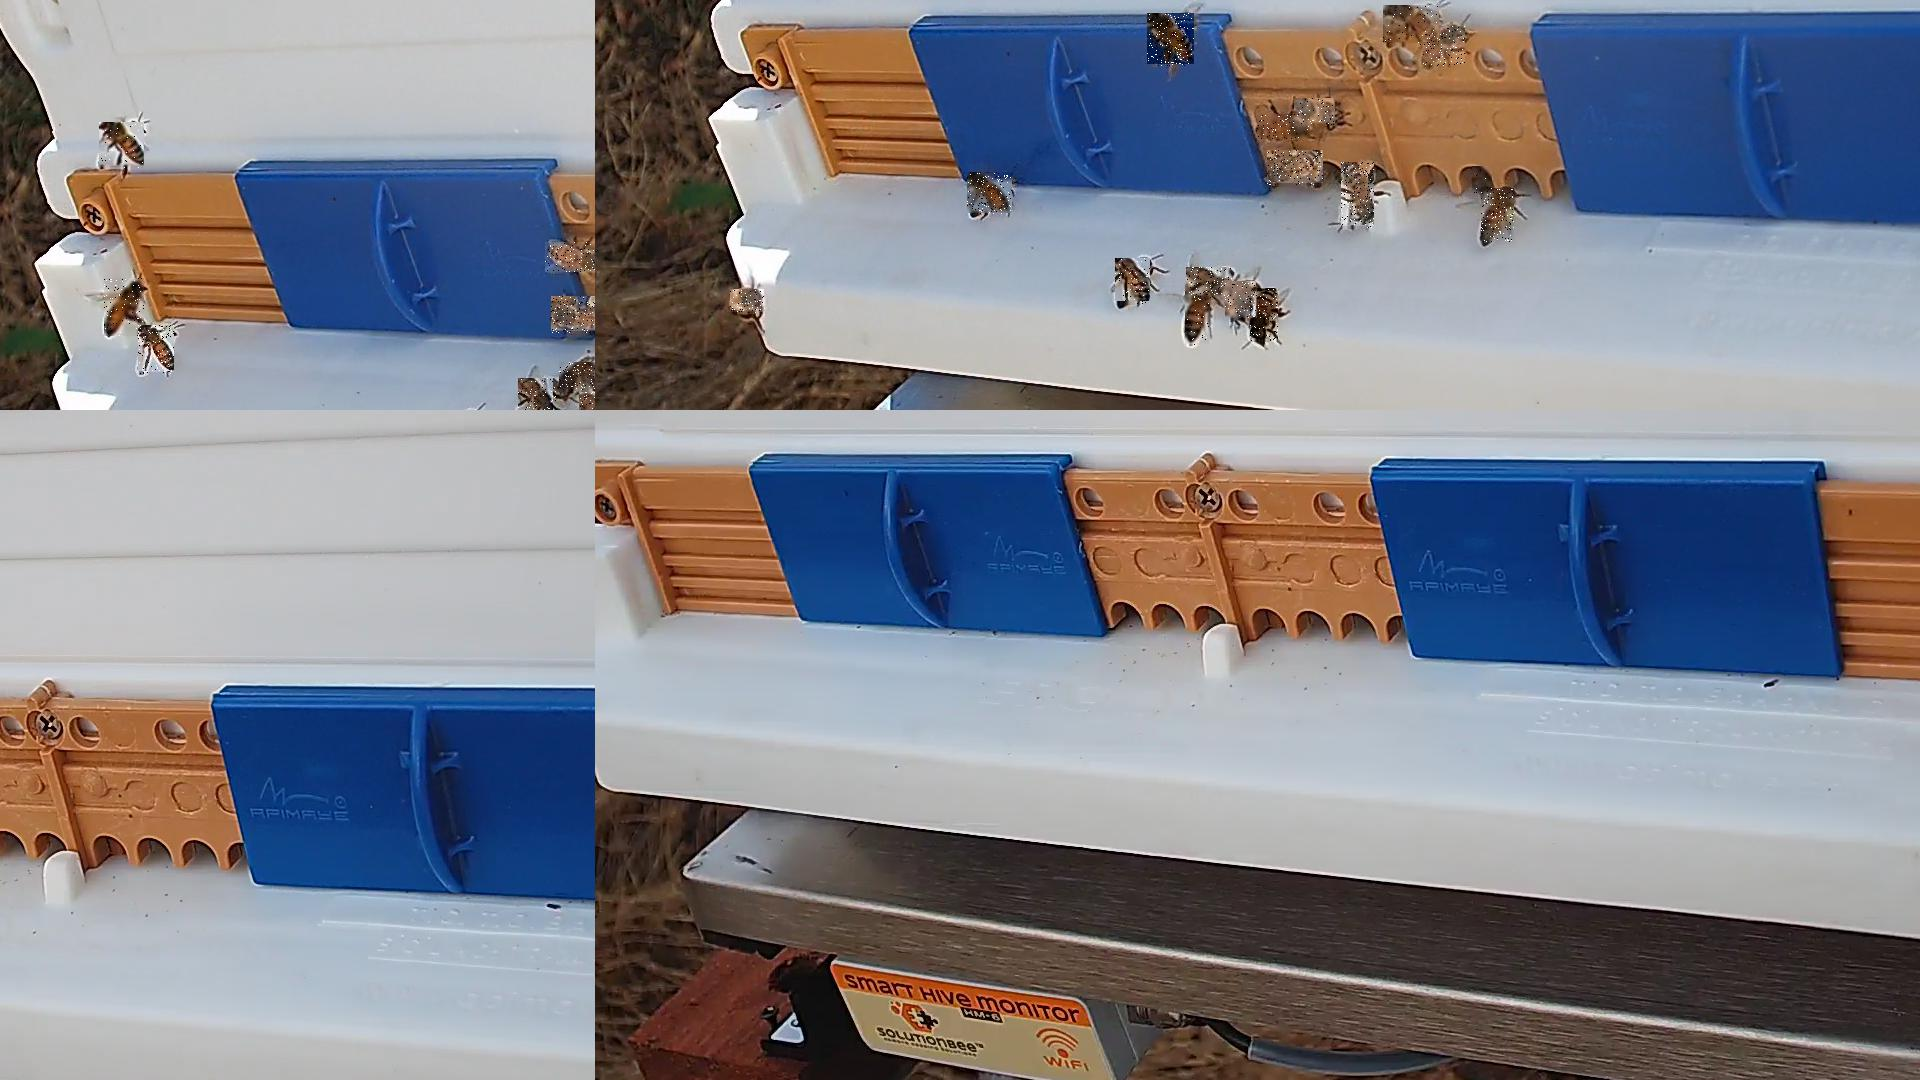bee: (1147, 13, 1195, 67), (104, 278, 145, 338), (1383, 5, 1440, 46), (1341, 164, 1375, 229), (99, 123, 145, 170), (1267, 150, 1324, 187), (967, 173, 1013, 216), (1481, 189, 1515, 244), (138, 326, 175, 376), (1423, 26, 1466, 67), (1116, 258, 1151, 306), (1250, 289, 1279, 343), (1185, 285, 1211, 347), (545, 243, 593, 274), (1187, 268, 1234, 299), (1257, 115, 1311, 140), (1225, 282, 1257, 320), (520, 378, 558, 409), (1295, 99, 1336, 127), (559, 363, 593, 392), (731, 290, 765, 315), (1472, 167, 1493, 198), (579, 392, 593, 409)
pollenbee: (551, 295, 593, 335)
